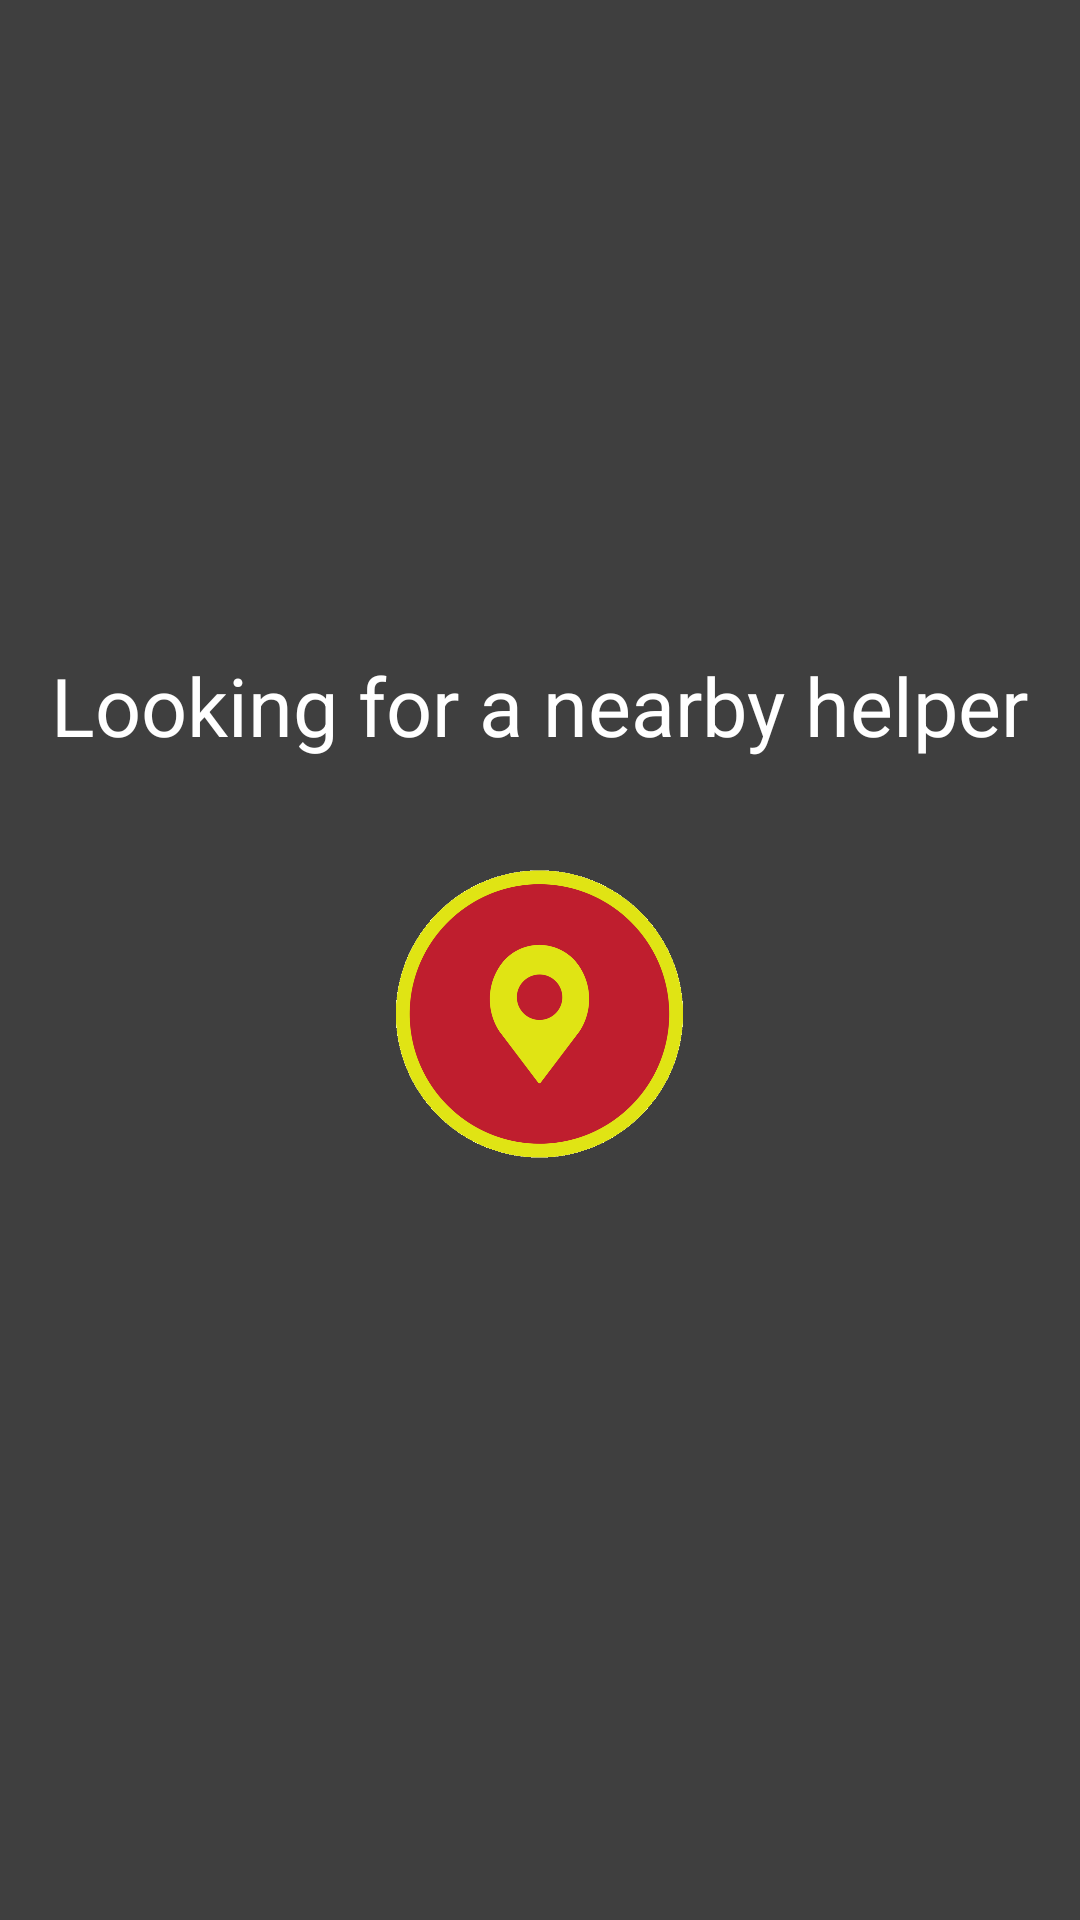

Named icons in this screenshot (1080px x 1920px) and their centers, [x,y]:
location: [539,1014]
